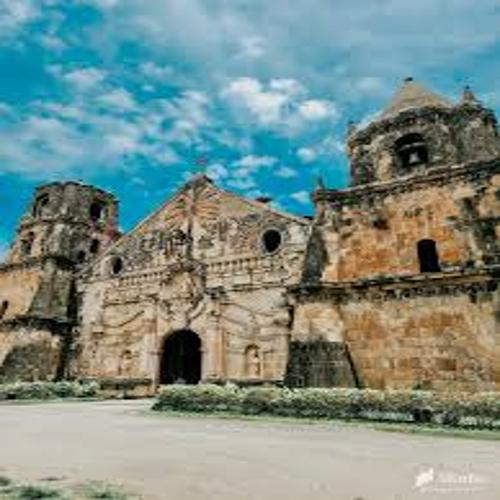Miagao Church: (2, 76, 498, 405)
